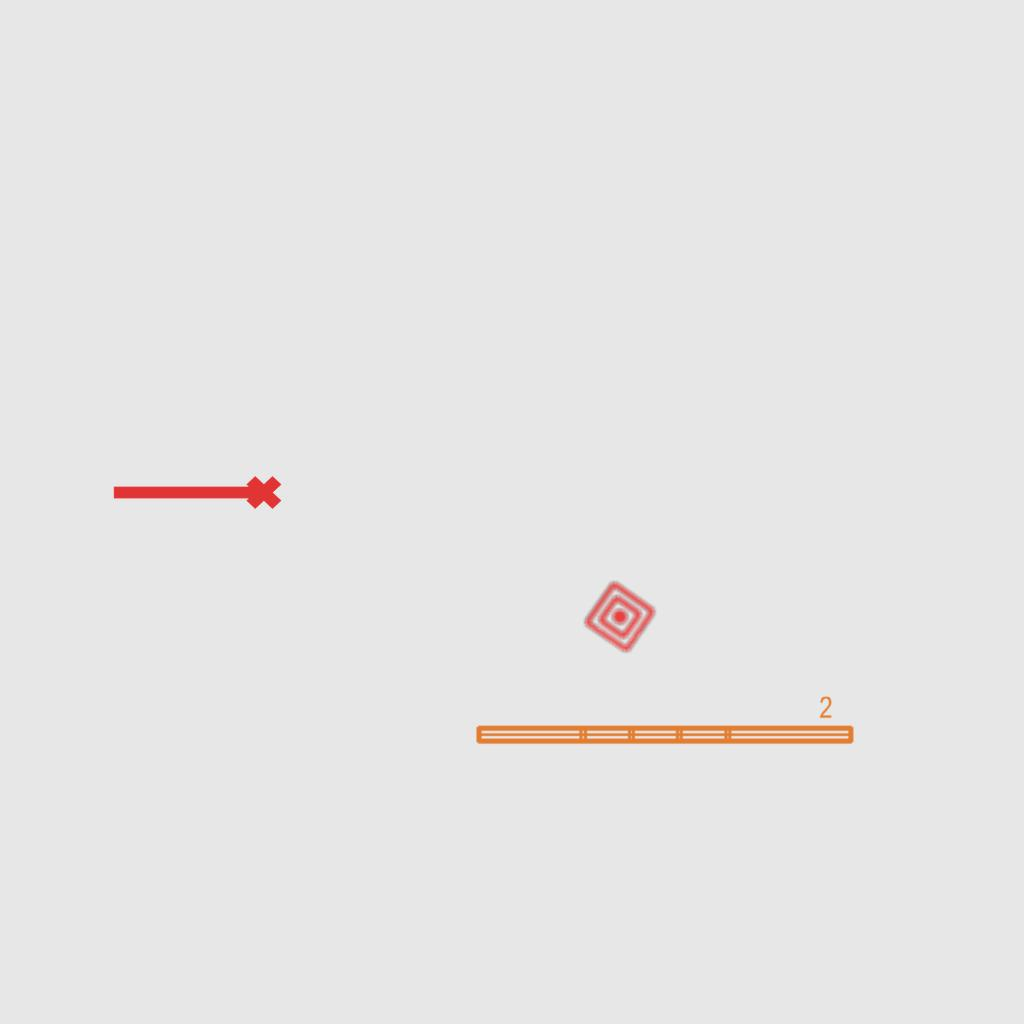ASR_Ansaugoeffnung: (108, 472, 284, 518)
Ambulanz_Pendelleuchte_LED: (471, 694, 858, 750)
NAM-Nichtautomatischer_Melder: (581, 578, 659, 656)
